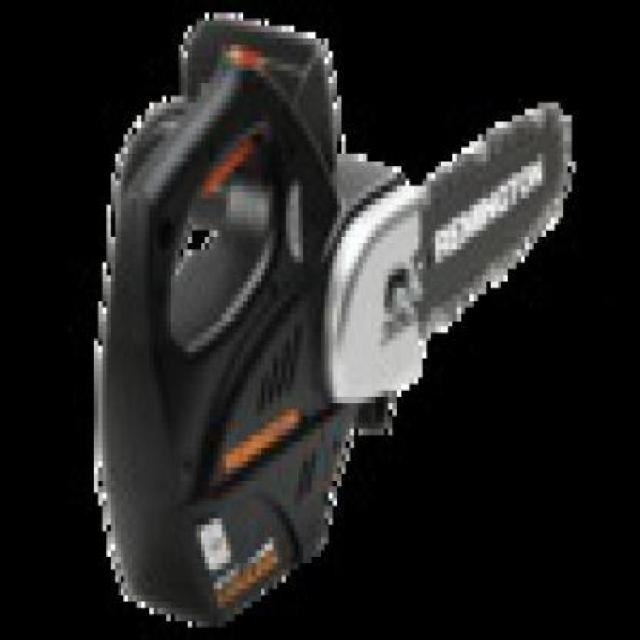Chainsaw: (61, 21, 573, 640)
